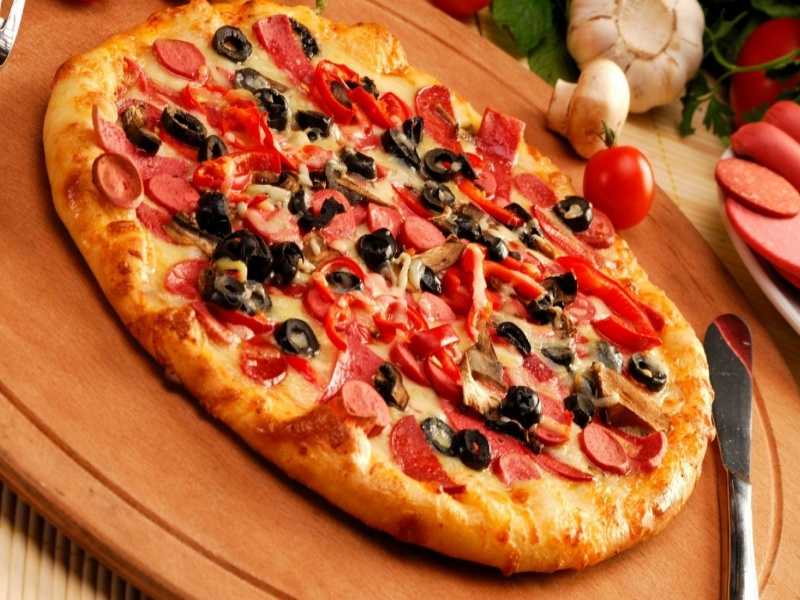olive noir: (505, 382, 545, 430), (455, 420, 493, 470), (418, 146, 468, 182), (211, 23, 256, 61), (552, 193, 593, 234), (278, 313, 318, 355), (340, 143, 381, 181), (361, 229, 398, 268), (297, 104, 332, 141), (419, 180, 454, 217)
pepperonis: (381, 424, 473, 491), (409, 84, 469, 143), (575, 419, 637, 475), (147, 34, 211, 82), (145, 169, 201, 214)
